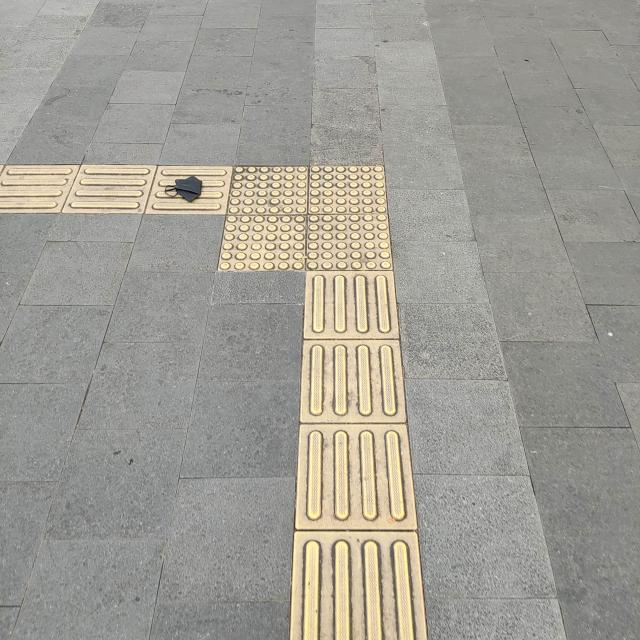kiri: (76, 109, 447, 331)
